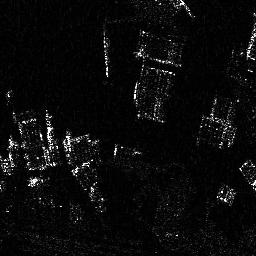ship: (102, 35, 112, 77)
